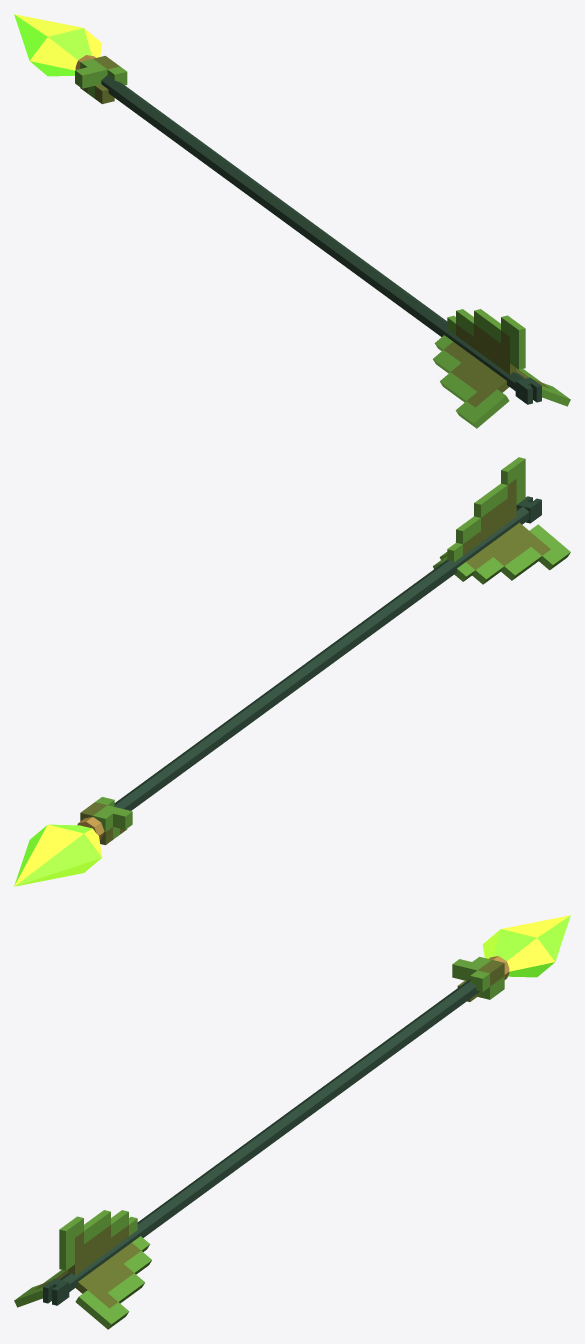
File: moss_slime_arrow.glb
3 renders of one model, top to bottom at view 1: azimuth 30°, elevation 25°; view 2: azimuth 150°, elevation 25°; view 3: azimuth 330°, elevation 25°, orthographic.
Visible parts, largest first — view 1: Shaft, FletchingVane2, ArrowHead, FletchingVane1, MossCollar, Nock, FletchingVane3; view 2: Shaft, ArrowHead, FletchingVane2, FletchingVane1, MossCollar; view 3: Shaft, FletchingVane3, ArrowHead, FletchingVane1, MossCollar, Nock, FletchingVane2.
Part boxes in pixels (left/top/right/bottom): Shaft: left=101, top=75, right=524, bottom=390; FletchingVane2: left=433, top=335, right=509, bottom=428; ArrowHead: left=14, top=14, right=102, bottom=76; FletchingVane1: left=447, top=309, right=525, bottom=374; MossCollar: left=75, top=55, right=127, bottom=104; Nock: left=515, top=377, right=541, bottom=404; FletchingVane3: left=516, top=368, right=570, bottom=406; Shaft: left=113, top=506, right=529, bottom=810; ArrowHead: left=14, top=824, right=102, bottom=886; FletchingVane2: left=454, top=522, right=570, bottom=584; FletchingVane1: left=447, top=457, right=525, bottom=562; MossCollar: left=80, top=797, right=132, bottom=845; Shaft: left=60, top=979, right=479, bottom=1291; FletchingVane3: left=75, top=1236, right=151, bottom=1329; ArrowHead: left=482, top=915, right=570, bottom=977; FletchingVane1: left=59, top=1210, right=137, bottom=1275; MossCollar: left=452, top=956, right=504, bottom=1001; Nock: left=43, top=1278, right=69, bottom=1305; FletchingVane2: left=14, top=1269, right=68, bottom=1307.
Bounding box in the file's own units: 0.201 × 0.1741 × 1.86.
